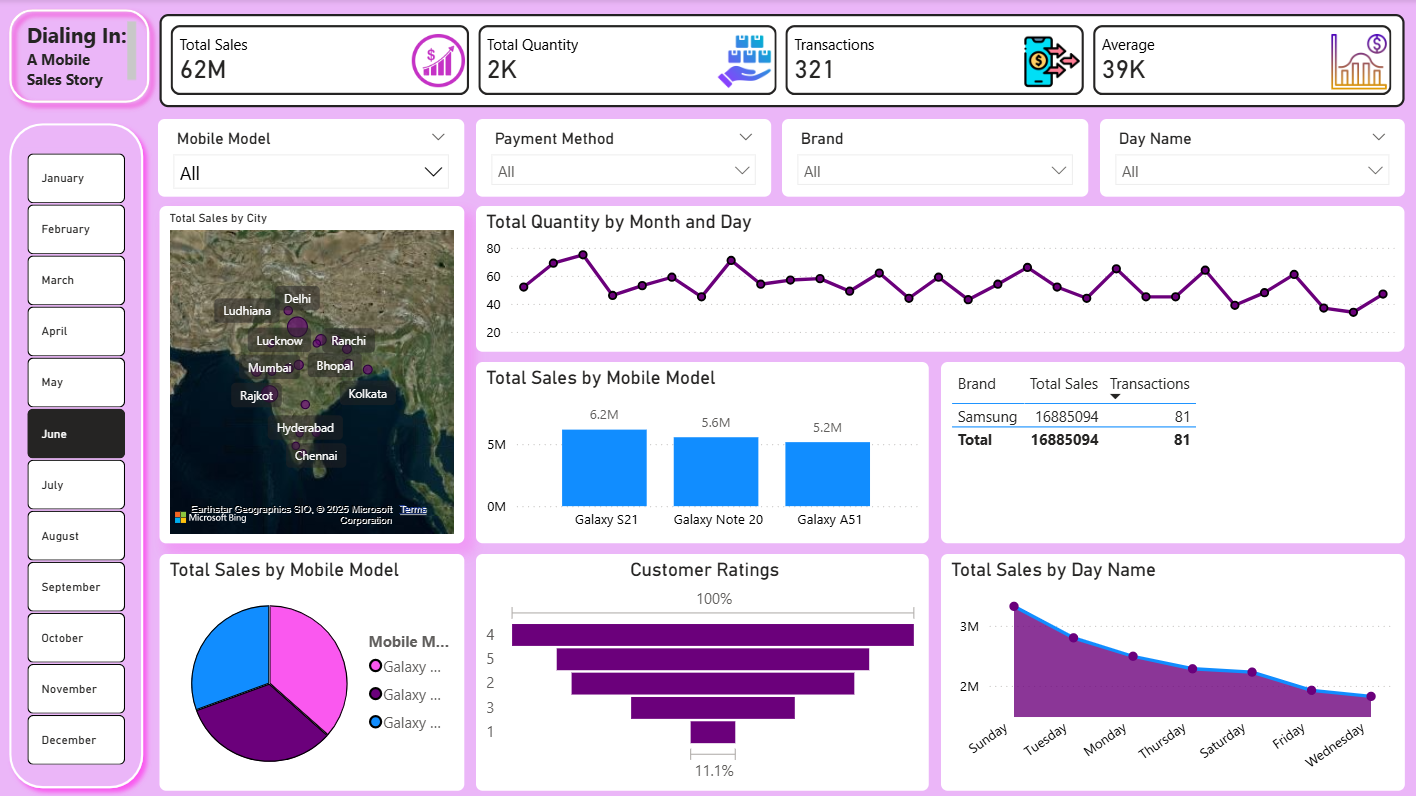

The dashboard page shown, as its layout file describes it:
{"tool":"powerbi","page":{"name":"Page 1","canvas":[1280,720],"ordinal":0},"visuals":[{"type":"shape","box":[0,0,144.6,102.7],"z":0},{"type":"shape","box":[0,102.7,139.2,617.7],"z":1000},{"type":"advancedSlicerVisual","fields":{"Values":["Sales_Data.Date.Variation.Date Hierarchy.Month"]},"box":[20.3,133.8,98.7,565],"z":2000},{"type":"cardVisual","fields":{"Data":["Sales_Data.Total Sales","Sales_Data.Total Quantity","Sales_Data.Transactions","Sales_Data.Average"]},"box":[144.6,13,1121.9,83.8],"z":3000},{"type":"map","fields":{"Category":["Sales_Data.City"],"Size":["Sales_Data.Total Sales"]},"box":[144.6,186.5,274.4,304.1],"z":4000},{"type":"lineChart","fields":{"Y":["Sales_Data.Total Quantity"],"Category":["Sales_Data.Date.Variation.Date Hierarchy.Month","Sales_Data.Date.Variation.Date Hierarchy.Day"]},"box":[429.8,186.5,836.7,131.1],"z":5000},{"type":"clusteredColumnChart","fields":{"Category":["Sales_Data.Mobile Model"],"Y":["Sales_Data.Total Sales"]},"box":[429.8,327.1,408.2,163.6],"z":6000},{"type":"pieChart","fields":{"Category":["Sales_Data.Mobile Model"],"Y":["Sales_Data.Total Sales"]},"box":[144.6,500.1,274.4,213.6],"z":7000},{"type":"funnel","title":"Customer Ratings ","fields":{"Y":["CountNonNull(Sales_Data.Customer Ratings)"],"Category":["Sales_Data.Customer Ratings"]},"box":[429.8,500.1,408.2,213.6],"z":8000},{"type":"areaChart","fields":{"Category":["Sales_Data.Day Name"],"Y":["Sales_Data.Total Sales"]},"box":[848.9,500,417.7,213.6],"z":9000},{"type":"tableEx","fields":{"Values":["Sales_Data.Brand","Sales_Data.Total Sales","Sales_Data.Transactions"]},"box":[848.9,327,417.7,163.6],"z":10000},{"type":"slicer","fields":{"Values":["Sales_Data.Mobile Model"]},"box":[143.3,108,275.8,70.3],"z":11000},{"type":"slicer","fields":{"Values":["Sales_Data.Payment Method"]},"box":[429.8,108,266.3,70.3],"z":12000},{"type":"slicer","fields":{"Values":["Sales_Data.Brand"]},"box":[705.6,108,275.8,70.3],"z":13000},{"type":"slicer","fields":{"Values":["Sales_Data.Day Name"]},"box":[992.2,108,274.4,70.3],"z":14000},{"type":"textbox","box":[20.3,14.9,108.1,74.3],"z":15000}]}

Visuals, with their boxes in screenshot pixels (x1, y1, x2, y2), scaled from the page's 1280x720 canvas onto the 1416x796 screenshot:
shape: x1=0 y1=0 x2=160 y2=114
shape: x1=0 y1=114 x2=154 y2=795
advancedSlicerVisual - Sales_Data.Date.Variation.Date Hierarchy.Month: x1=22 y1=148 x2=132 y2=773
cardVisual - Sales_Data.Total Sales x Sales_Data.Total Quantity: x1=160 y1=14 x2=1401 y2=107
map - Sales_Data.City x Sales_Data.Total Sales: x1=160 y1=206 x2=464 y2=542
lineChart - Sales_Data.Total Quantity x Sales_Data.Date.Variation.Date Hierarchy.Month: x1=475 y1=206 x2=1401 y2=351
clusteredColumnChart - Sales_Data.Mobile Model x Sales_Data.Total Sales: x1=475 y1=362 x2=927 y2=542
pieChart - Sales_Data.Mobile Model x Sales_Data.Total Sales: x1=160 y1=553 x2=464 y2=789
"Customer Ratings " funnel: x1=475 y1=553 x2=927 y2=789
areaChart - Sales_Data.Day Name x Sales_Data.Total Sales: x1=939 y1=553 x2=1401 y2=789
tableEx - Sales_Data.Brand x Sales_Data.Total Sales: x1=939 y1=362 x2=1401 y2=542
slicer - Sales_Data.Mobile Model: x1=159 y1=119 x2=464 y2=197
slicer - Sales_Data.Payment Method: x1=475 y1=119 x2=770 y2=197
slicer - Sales_Data.Brand: x1=781 y1=119 x2=1086 y2=197
slicer - Sales_Data.Day Name: x1=1098 y1=119 x2=1401 y2=197
textbox: x1=22 y1=16 x2=142 y2=99
